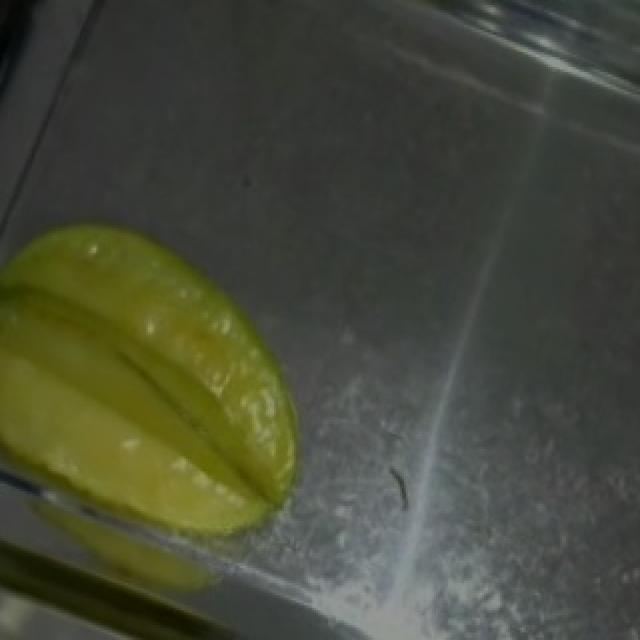fruit: (6, 174, 358, 595)
